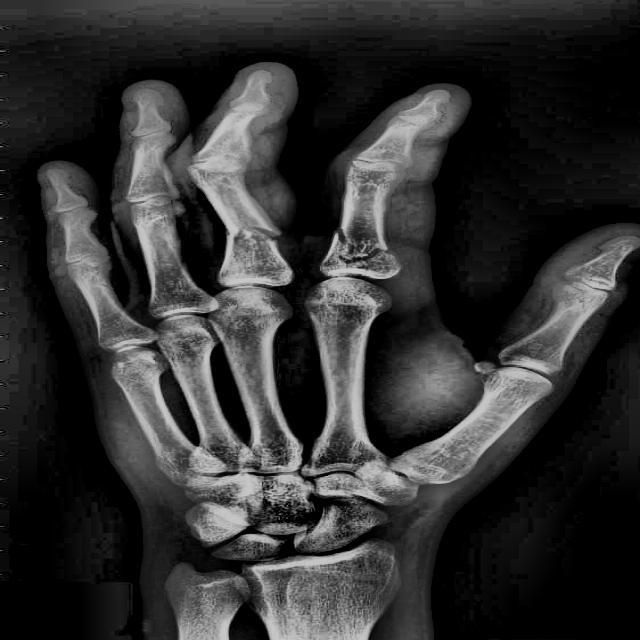fracture: (329, 227, 393, 264), (223, 226, 287, 247)
